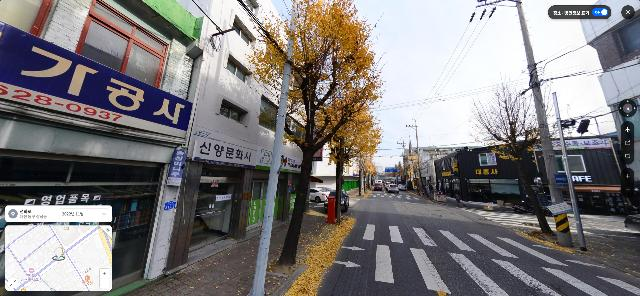ginkgo: (244, 1, 389, 266), (464, 79, 554, 236), (328, 96, 383, 224)
